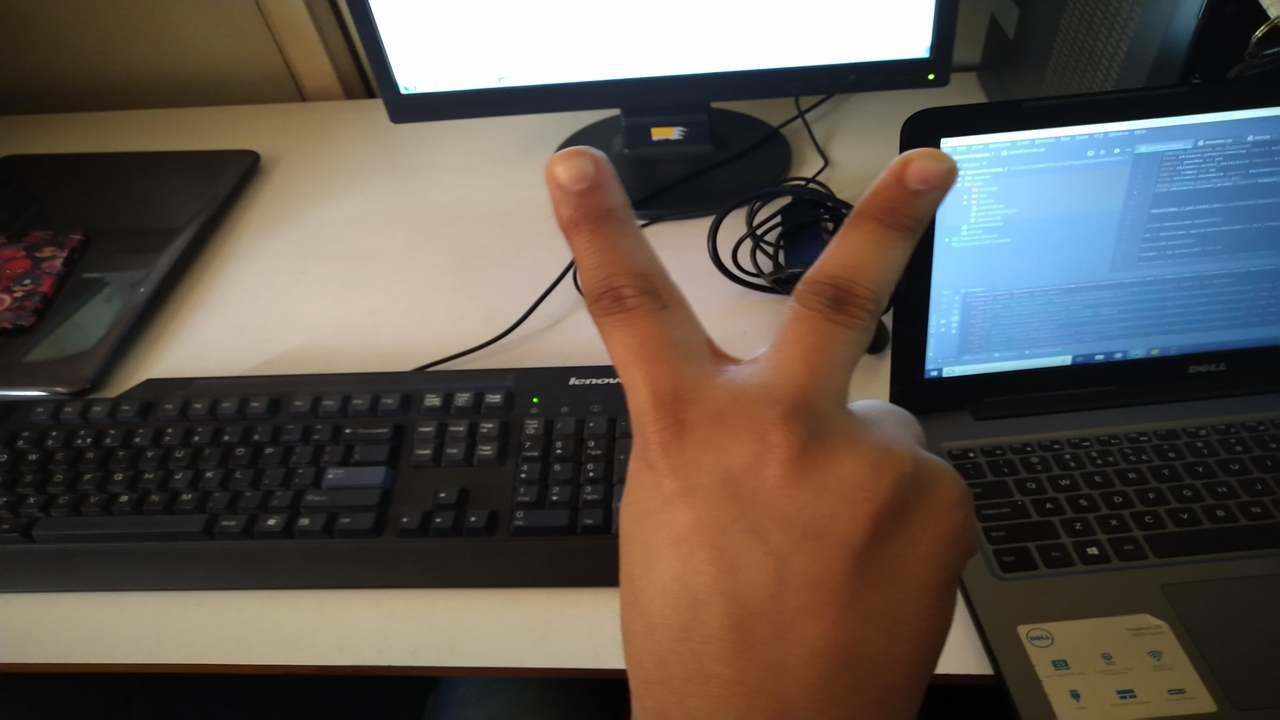fingertip: (538, 140, 612, 204), (894, 138, 964, 202)
